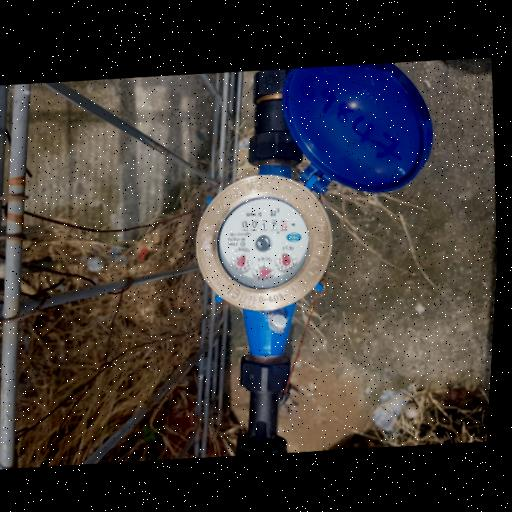0: (240, 219, 249, 231), (251, 219, 258, 231)
1: (259, 219, 268, 232)
6: (279, 219, 289, 232)
7: (269, 218, 278, 231)
border_water_meter_number: (239, 214, 291, 238)
